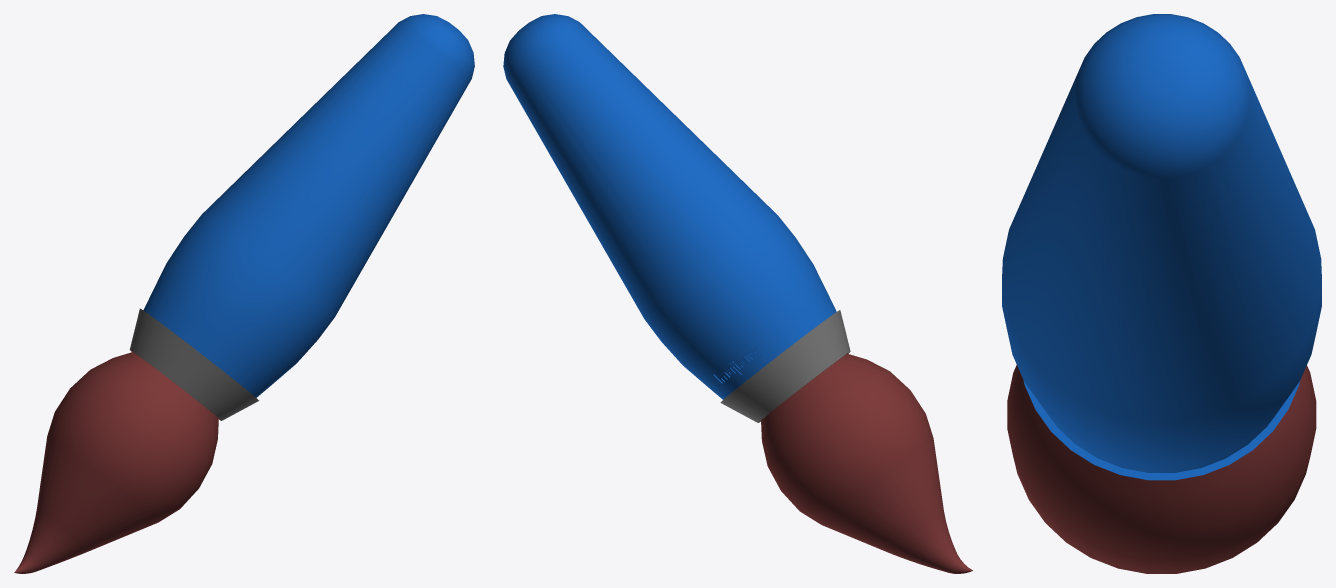
Rendered from paintbrush.fbx.
The picture shows the model from 3 angles, left to right: view 1: azimuth 30°, elevation 25°; view 2: azimuth 150°, elevation 25°; view 3: azimuth 270°, elevation 25°; orthographic projection. The views are drawn at different scales.
Parts seen in each view (by area): view 1: Circle.2563; view 2: Circle.2563; view 3: Circle.2563.
Part boxes in pixels (<box>): Circle.2563: <box>14,14,474,573</box>; Circle.2563: <box>503,14,972,573</box>; Circle.2563: <box>1002,14,1321,573</box>.
Size of the model in its own units: 210 by 199 by 66.81.
Materials: 1 (1 with a texture image).
